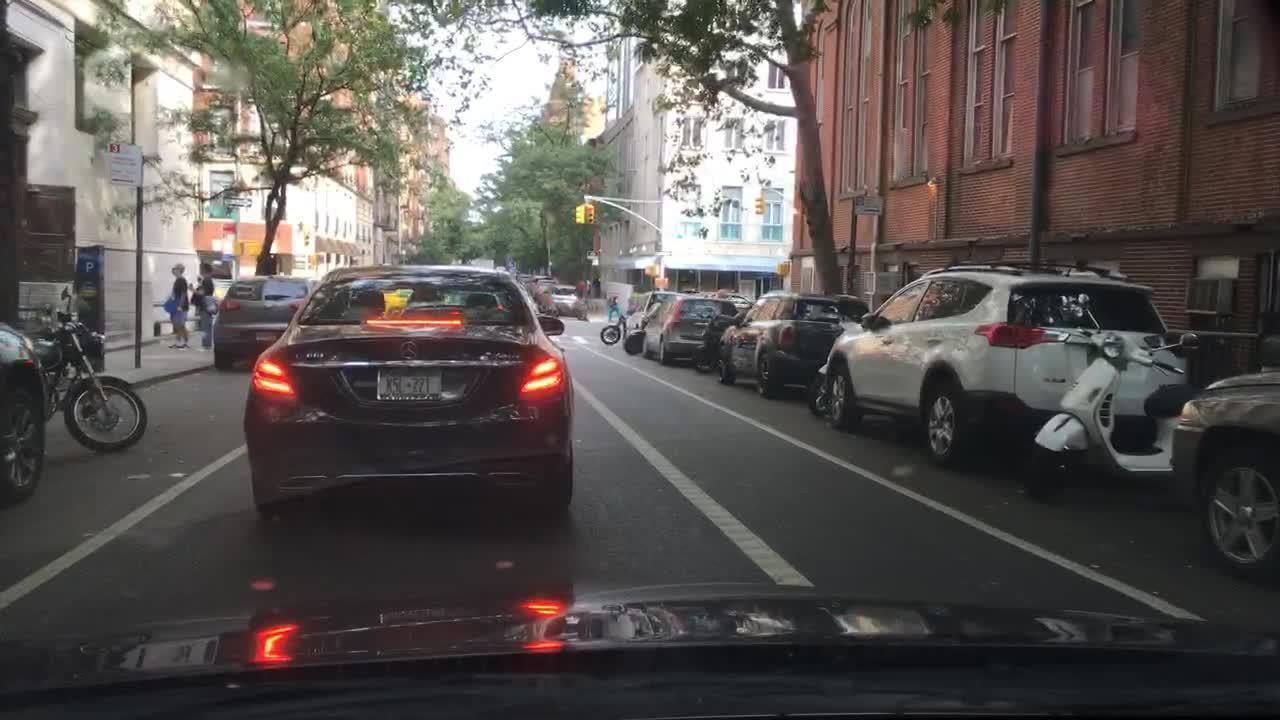Mercedes: (392, 335, 436, 367)
